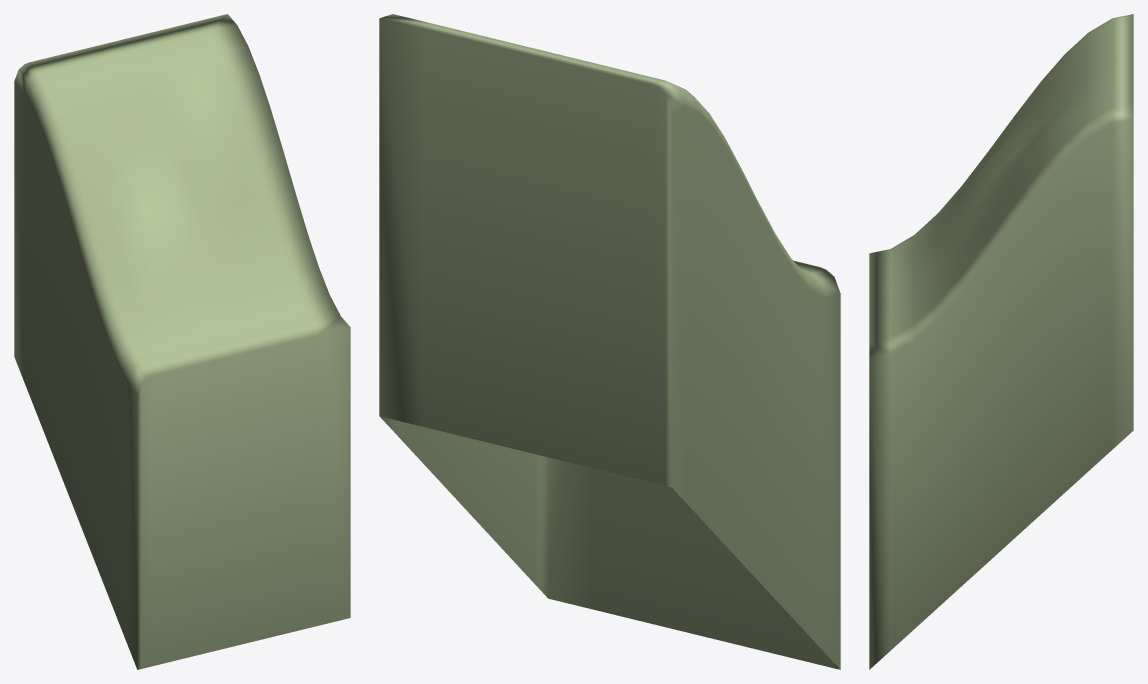
The model's file is ground-ramp-l-01.glb.
3 views of the same model, side by side, from view 1: azimuth 30°, elevation 25°; view 2: azimuth 150°, elevation 25°; view 3: azimuth 270°, elevation 25° (orthographic). The views are drawn at different scales.
Visible parts, largest first — view 1: ground-ramp-l-01; view 2: ground-ramp-l-01; view 3: ground-ramp-l-01.
Boxes of the visible parts, x1,y1,x2,y2 form: ground-ramp-l-01: [14, 14, 350, 669]; ground-ramp-l-01: [379, 14, 840, 669]; ground-ramp-l-01: [869, 14, 1133, 669].
Bounding box in the file's own units: 1 × 2.3 × 1.
